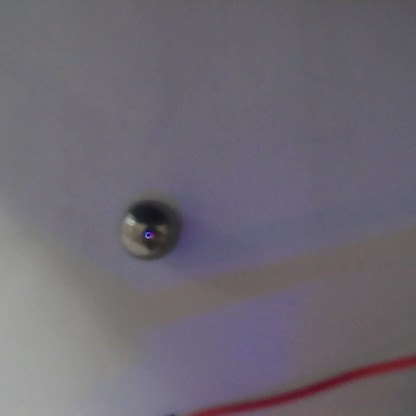ironball: (116, 198, 183, 261)
